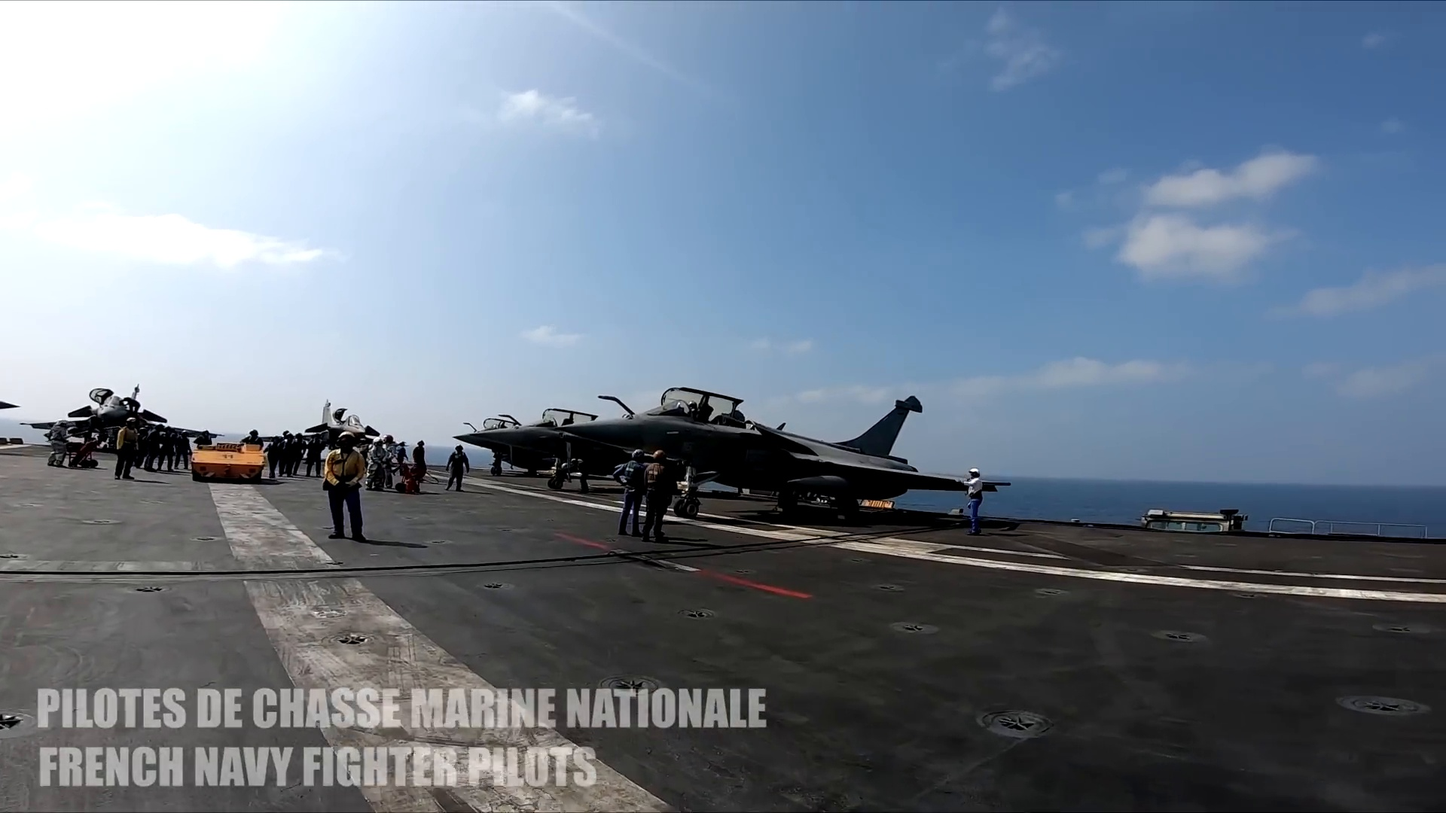Rafale: (553, 385, 1012, 519), (472, 407, 743, 488), (21, 384, 221, 465), (251, 400, 413, 465)
